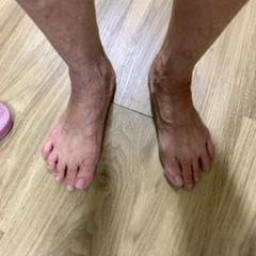Dorsal View -Both Feet-: (24, 36, 232, 212)
